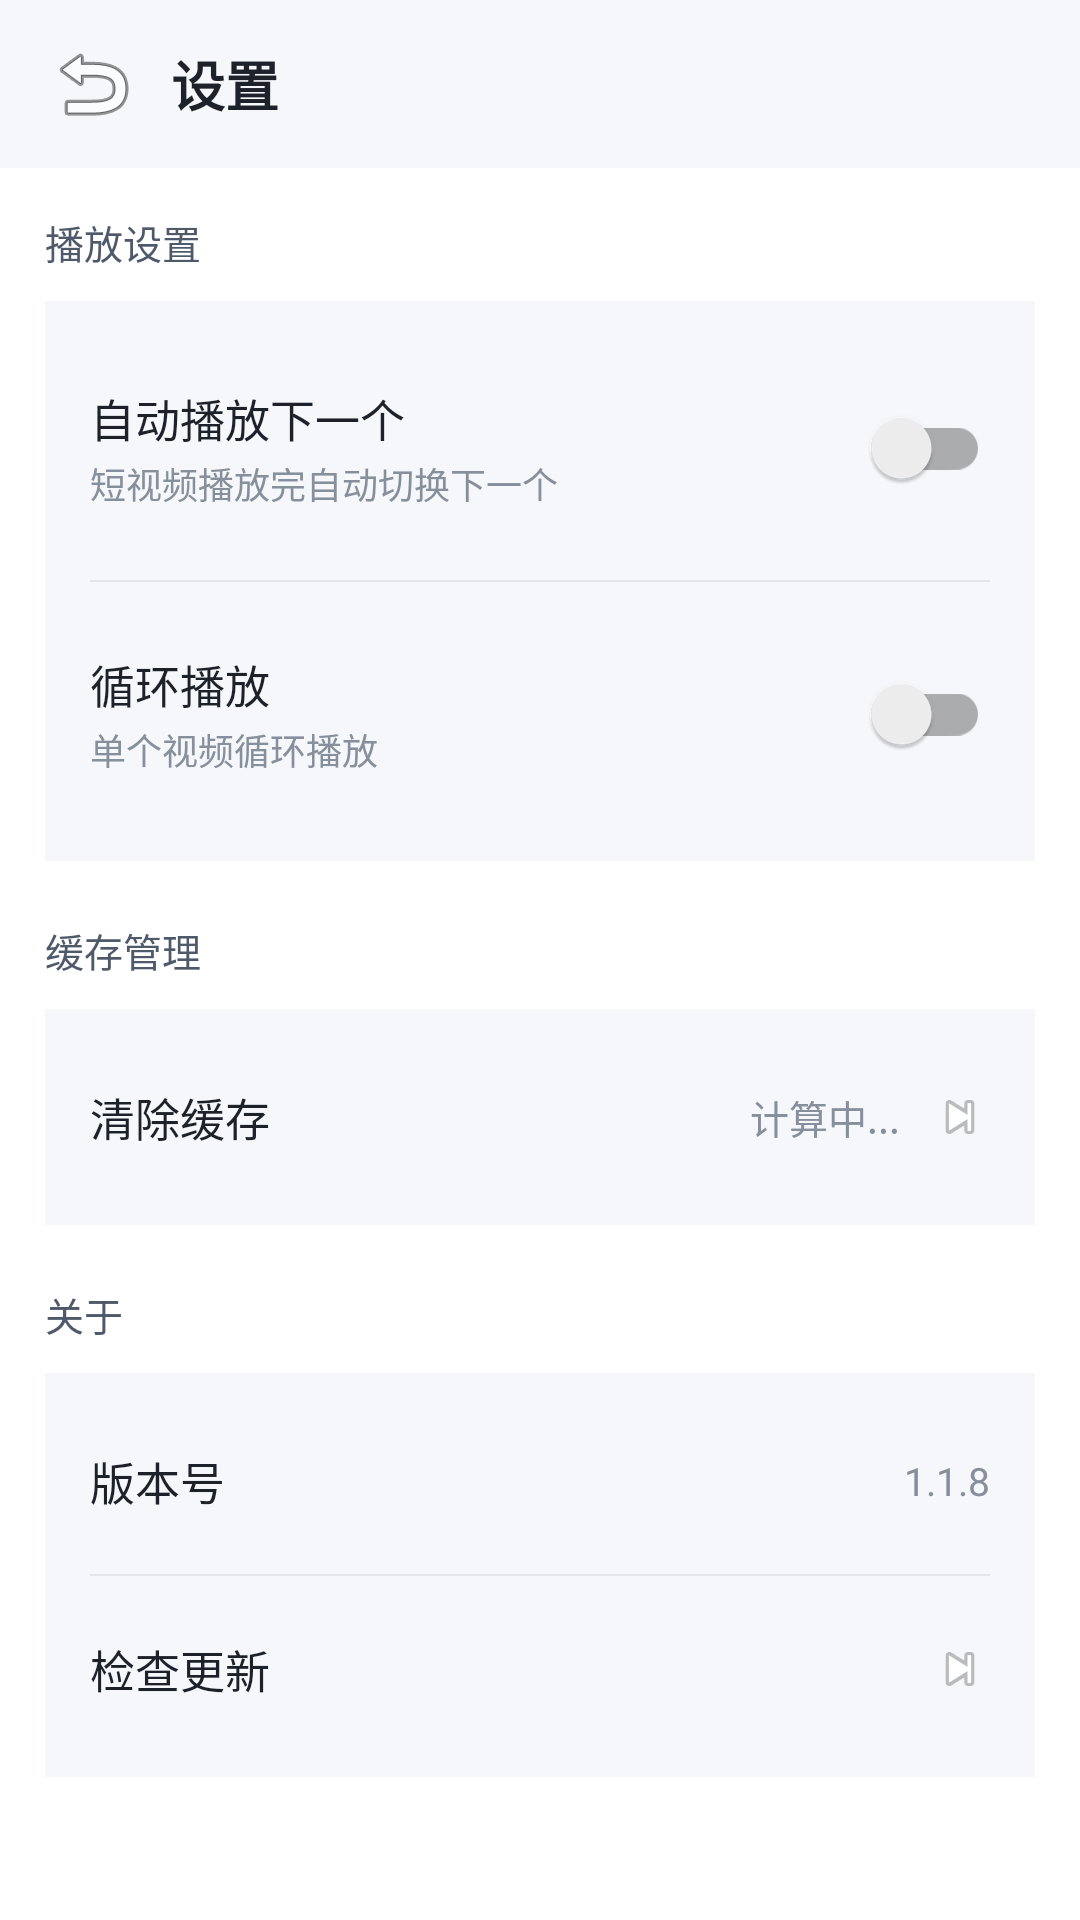

Screen size 1080px x 1920px. Icon name, then its box in pixels as [x1=x1, y1=y1, x2=x2, y2=y2]:
箭头: [x1=945, y1=1100, x2=975, y2=1134], [x1=945, y1=1652, x2=975, y2=1686]
返回: [x1=60, y1=53, x2=129, y2=116]
